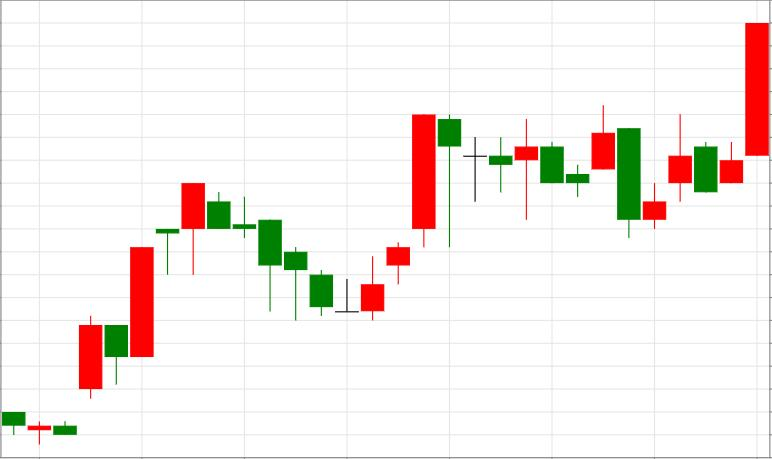hanging_man_fall: (336, 114, 461, 321)
morning_star_rise: (208, 191, 384, 321)
three_white_soldiers_rise: (207, 114, 436, 320)
